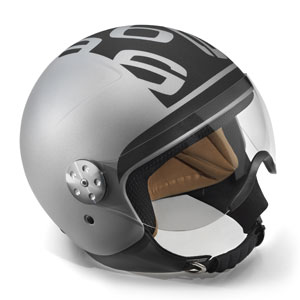helmet: (29, 30, 274, 255)
